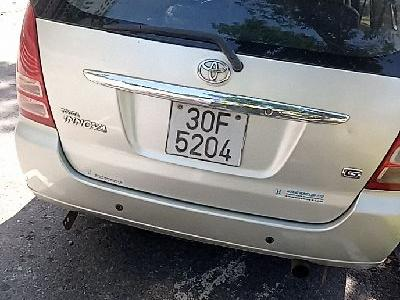lisence: (164, 96, 250, 169)
